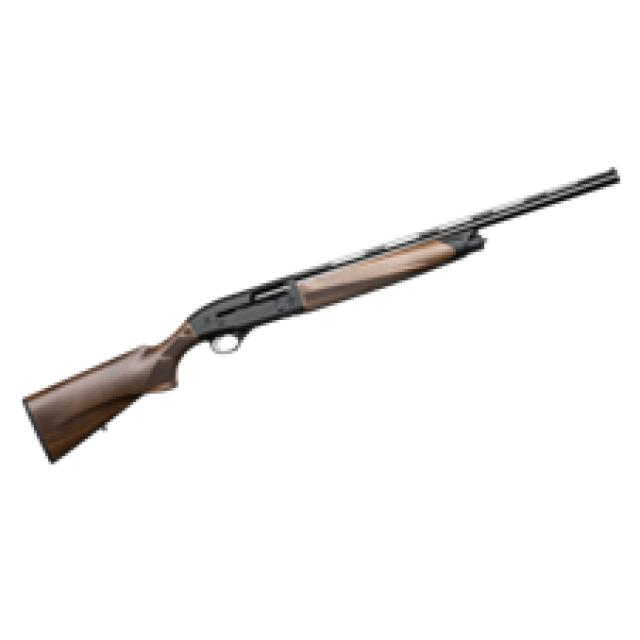rifle: (15, 148, 628, 473)
